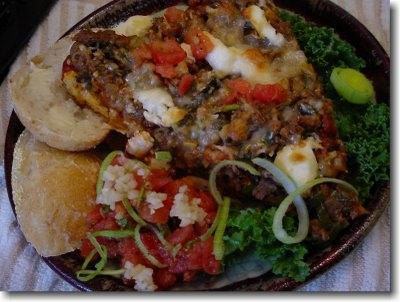lettuce: (280, 10, 366, 100), (222, 206, 312, 282), (332, 94, 390, 206)
tomato: (172, 175, 219, 224), (118, 232, 178, 270), (136, 193, 174, 224), (164, 224, 200, 252), (152, 39, 187, 66), (220, 76, 250, 104), (253, 83, 288, 104), (202, 237, 221, 274), (145, 168, 171, 193), (90, 212, 120, 232), (152, 268, 176, 290), (96, 237, 119, 258), (129, 39, 152, 60), (188, 242, 204, 270), (86, 204, 106, 226), (168, 255, 188, 273), (164, 6, 185, 23), (178, 73, 193, 96), (155, 64, 176, 80), (200, 36, 214, 54), (80, 238, 94, 256), (192, 220, 204, 237), (192, 46, 205, 60), (134, 174, 144, 192), (110, 154, 124, 166)
